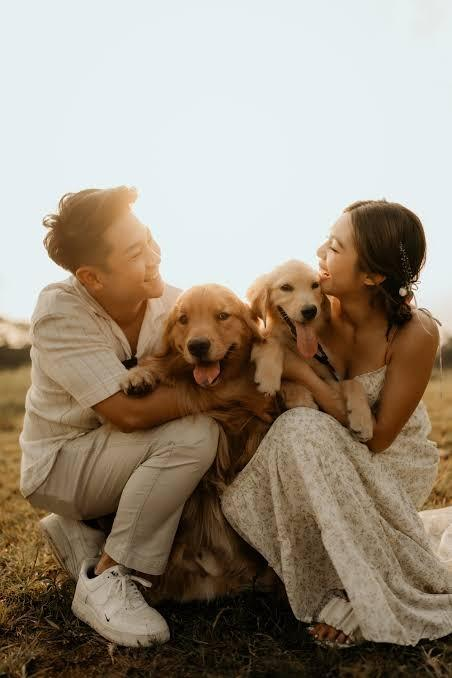adult_dog: (122, 283, 277, 609)
non-dog: (220, 199, 452, 650), (14, 185, 221, 656)
puppy-dog: (240, 260, 374, 442)
